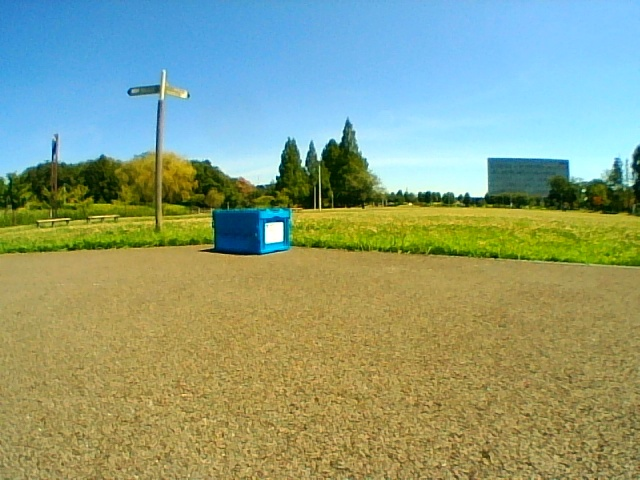blue_box: (213, 208, 290, 254)
tag: (264, 222, 282, 243)
